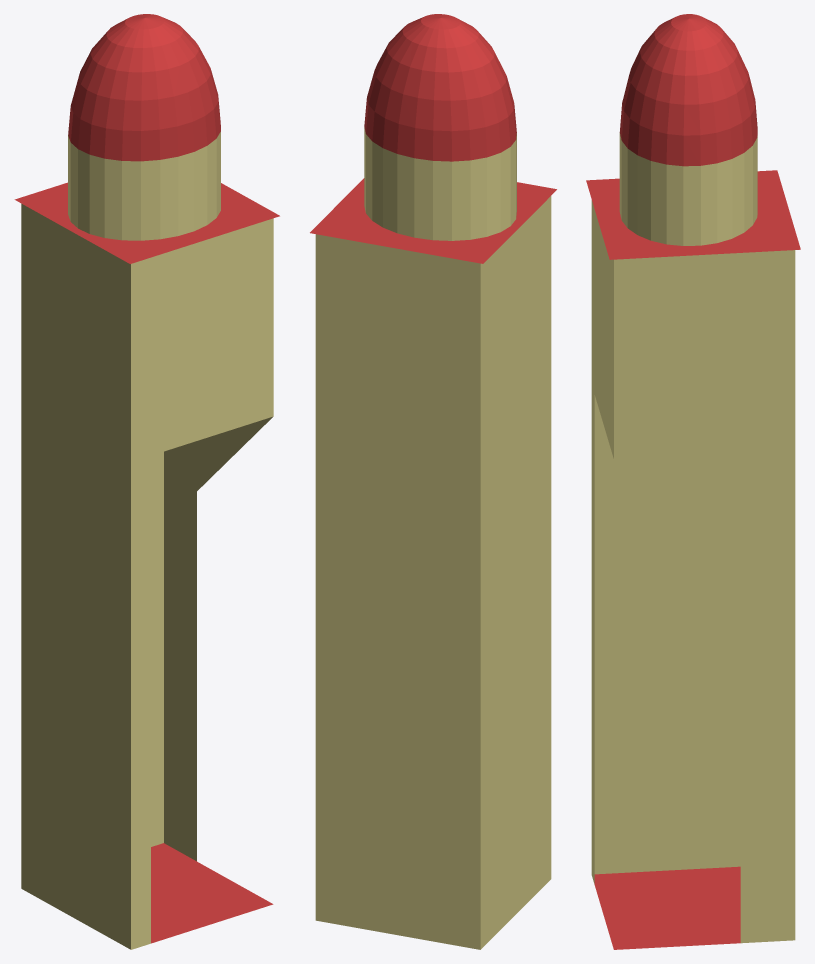
3 renders of one model, left to right at view 1: azimuth 30°, elevation 25°; view 2: azimuth 150°, elevation 25°; view 3: azimuth 270°, elevation 25°, orthographic.
Size of the model in its own units: 10.8 by 10.94 by 49.79.
